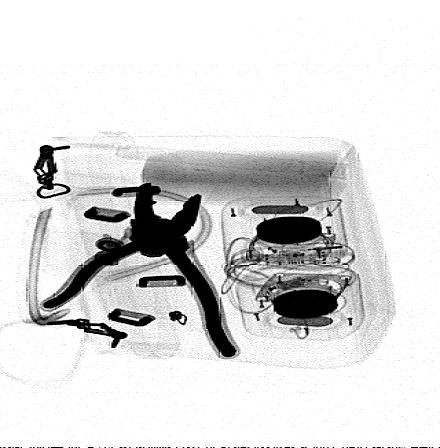Pliers: (38, 180, 240, 363)
